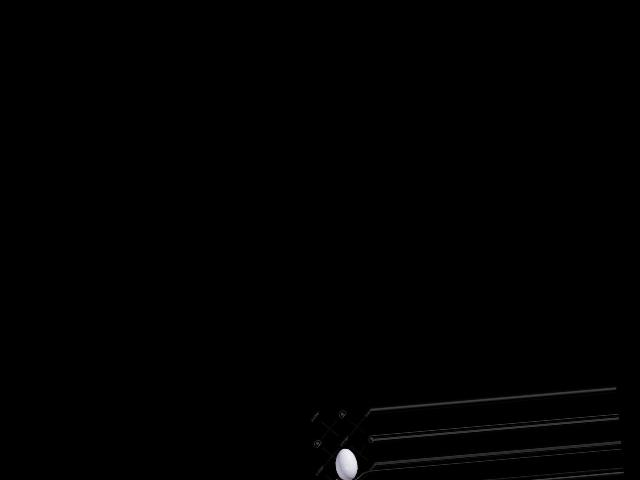egg: (334, 447, 359, 480)
